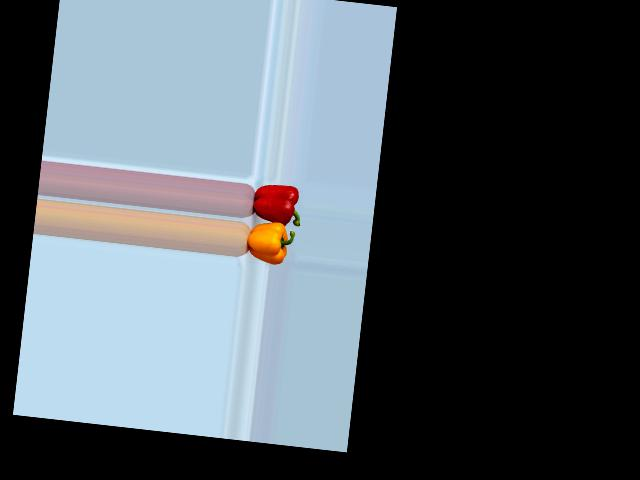bell_pepper: (246, 177, 303, 227)
